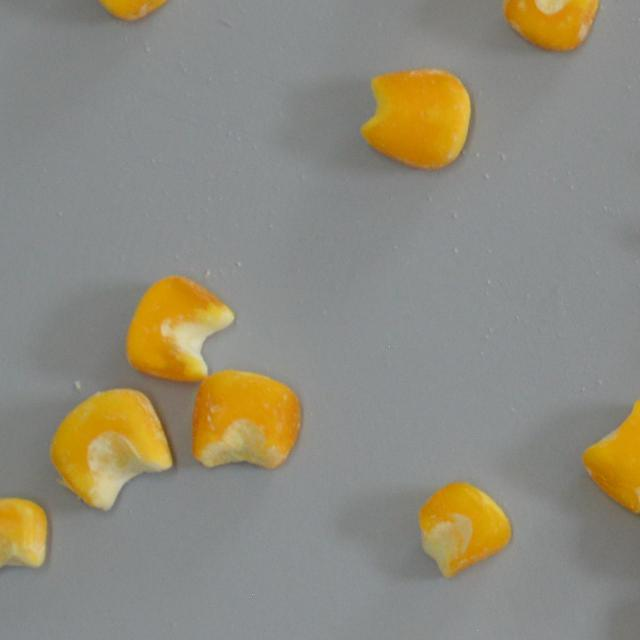no_canjicado: (124, 275, 235, 382), (192, 370, 301, 470), (416, 480, 512, 581), (581, 396, 640, 514)
pelicula: (48, 387, 174, 512), (358, 66, 472, 171), (501, 0, 600, 54), (0, 497, 46, 582), (80, 0, 178, 22)
